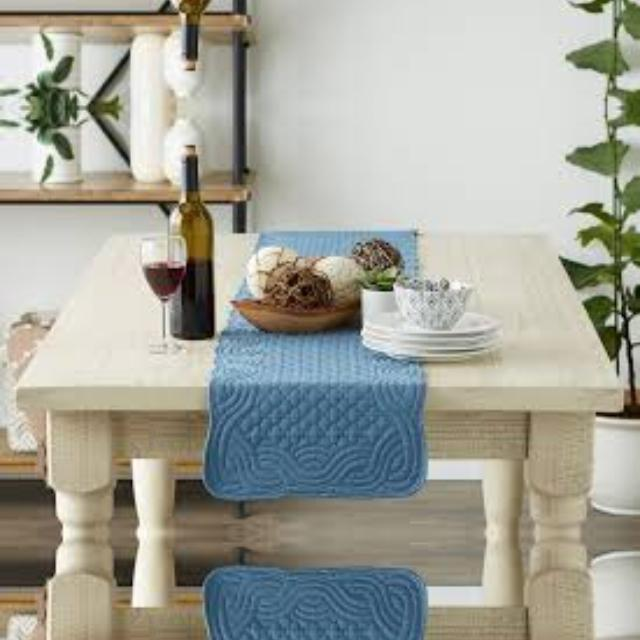obstacle: (26, 172, 622, 532), (26, 532, 621, 640), (26, 0, 621, 42)
